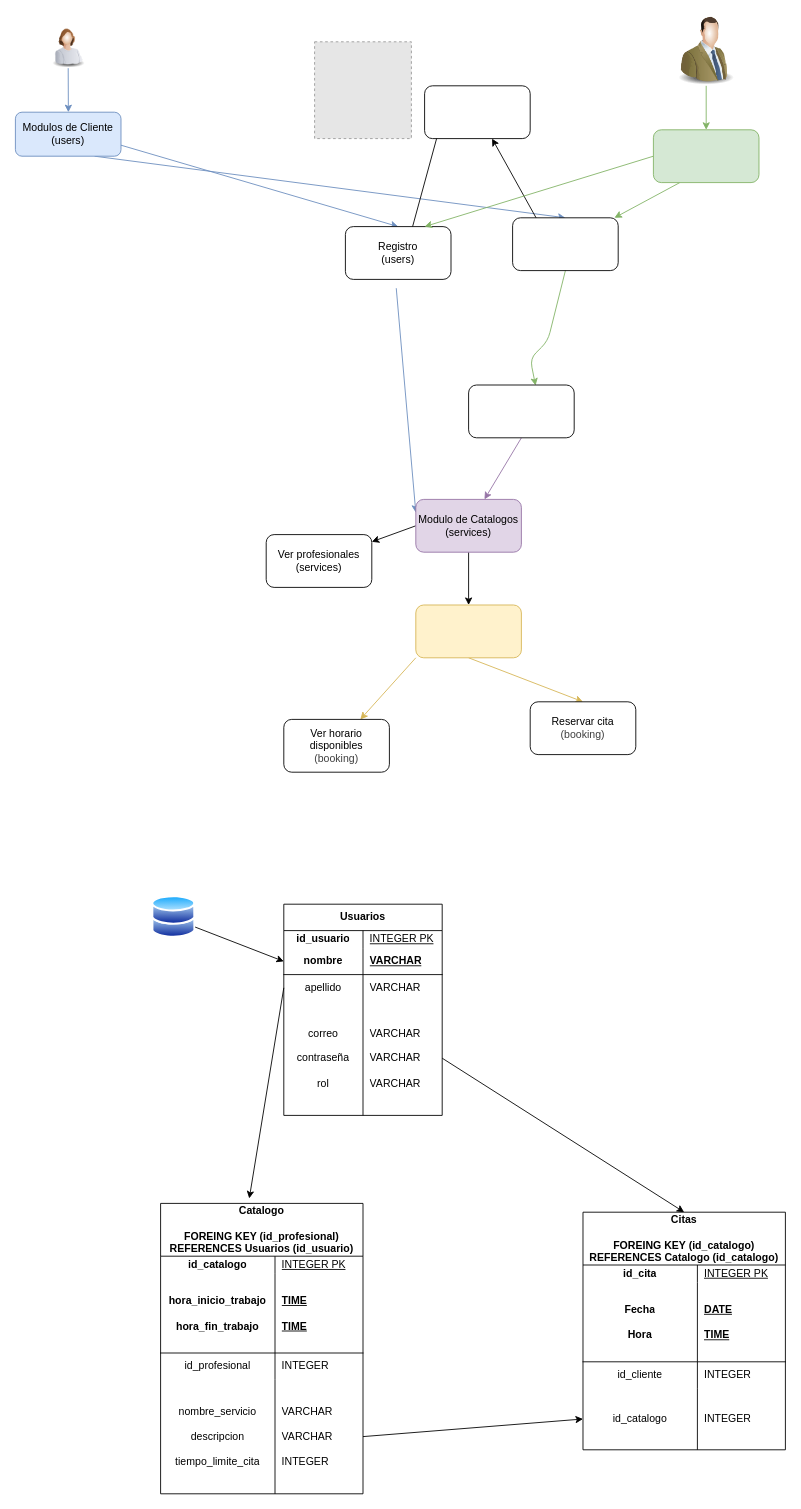
Image size: 801x1509. Some labels were removed from this diagram. Grey dashed boxes stand in for pictures. Each missing label, with the centre of its shape:
"Login (users)" belongs at [565,244].
"Modulo Citas (booking)" belongs at [468,631].
"Modulos Profesional (users)" belongs at [706,156].
"Perfil (Cliente / Profesional) (users)" belongs at [477,112].
"Registrar agenda" belongs at [521,411].
